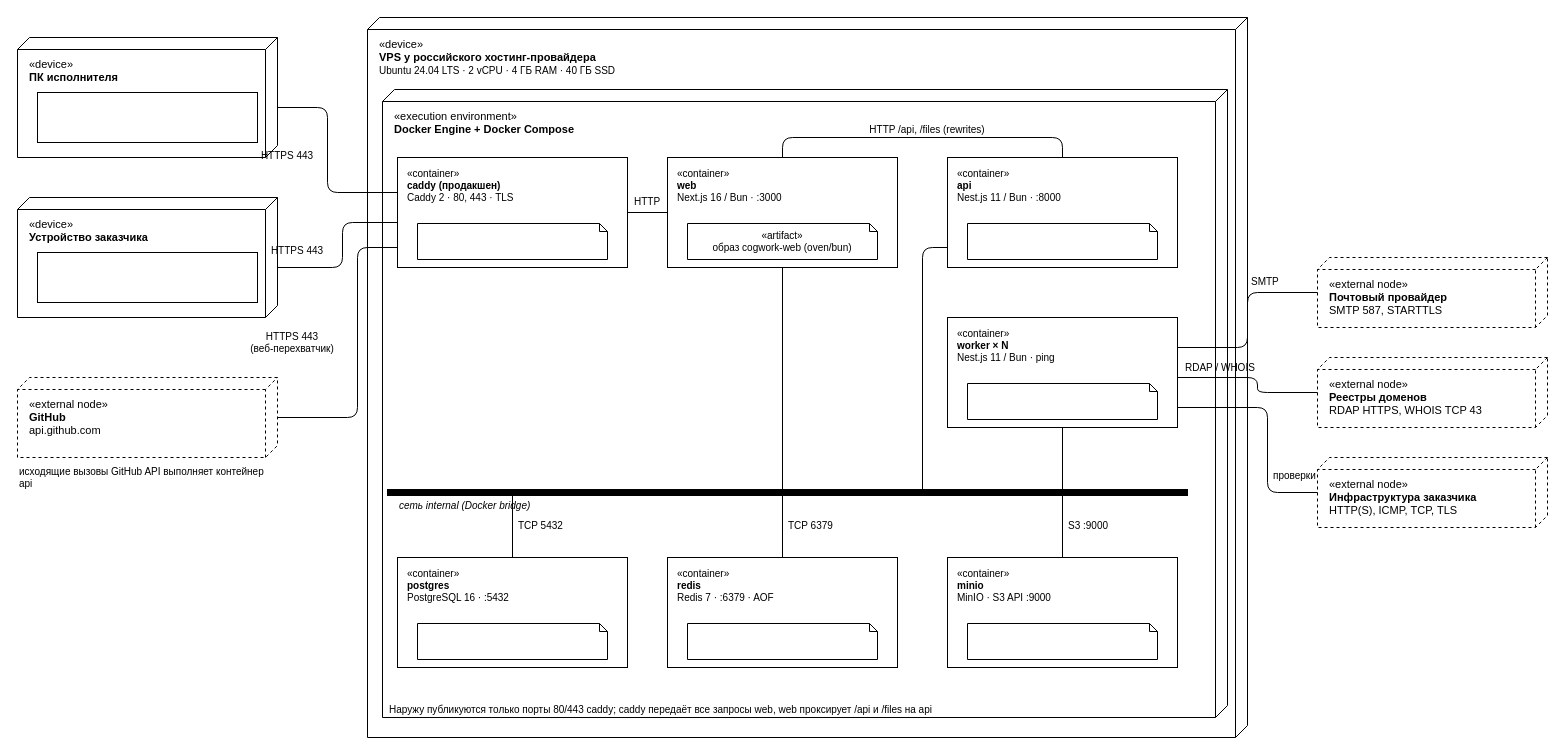
The diagram is 1565 pixels wide and 755 high, and some of its shapes have lost their labels. The centre of each missing label's shape, as x and y in pixels:
«artifact» Caddyfile: [512,241]
«artifact» образ cogwork-api (oven/bun): [1062,241]
«artifact» образ cogwork-worker (oven/bun): [1062,401]
«artifact» том miniodata: [1062,641]
«artifact» том pgdata: [512,641]
«artifact» том redisdata: [782,641]
«execution environment» Браузер Chrome, Firefox, Safari, Edge: [147,117]
«execution environment» Браузер в т.ч. мобильный, ≥ 360 px: [147,277]
